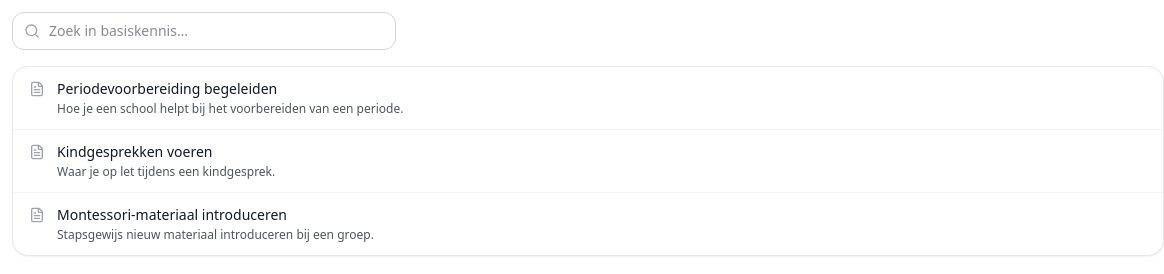
Test case: KennisLijstClient — zoekbalk › filtert ook op samenvatting-tekst, niet uitsluitend op titel
Step 1. Type "kindgesprek" into the search field labelled "Zoek in basiskennis" → (204, 31), box [12,12,396,50]
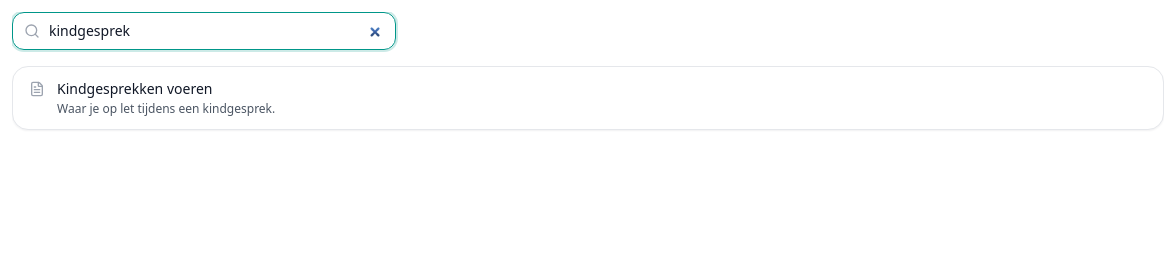
Expected: the text "Kindgesprekken voeren" is shown, [57,79,212,98]
Expected: the number of links is 1, [29,79,275,117]
